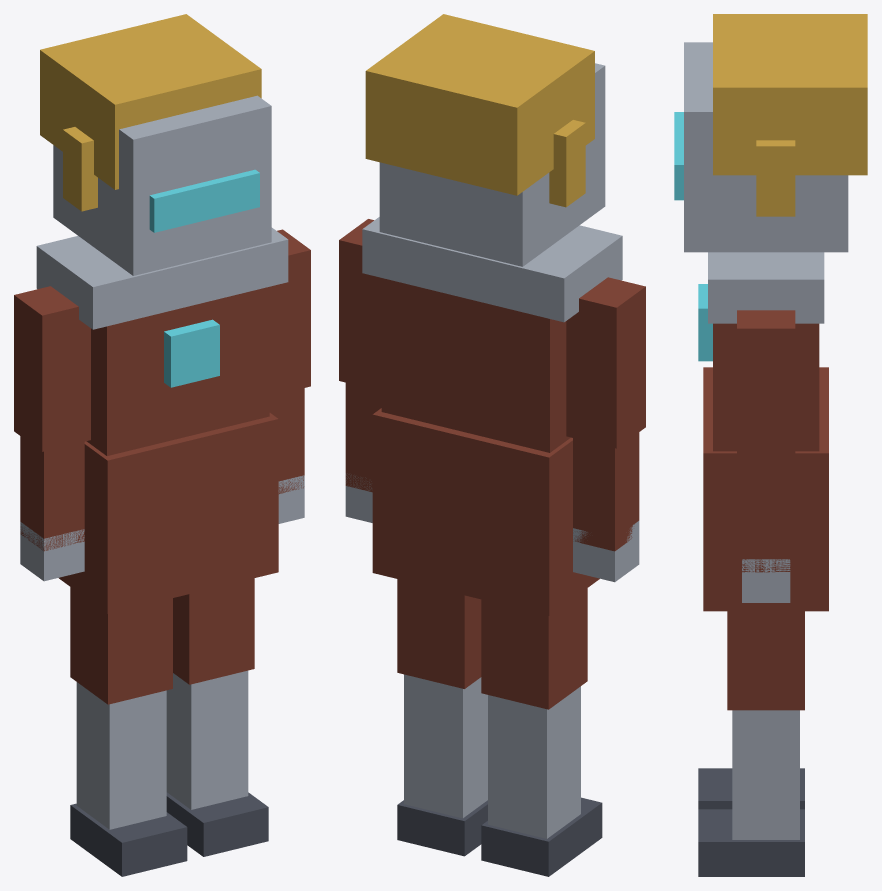
File: MechanicalCompanion.obj
The picture shows the model from 3 angles, left to right: view 1: azimuth 30°, elevation 25°; view 2: azimuth 150°, elevation 25°; view 3: azimuth 270°, elevation 25°; orthographic projection. The views are drawn at different scales.
Parts seen in each view (by area): view 1: torso, head, leg_l, leg_r, arm_l, arm_r; view 2: torso, head, leg_l, leg_r, arm_l, arm_r; view 3: head, torso, leg_r, arm_r, leg_l.
Part boxes in pixels (left/top/right/bottom): torso: left=36, top=227, right=288, bottom=613; head: left=40, top=14, right=271, bottom=275; leg_l: left=70, top=587, right=187, bottom=876; leg_r: left=166, top=578, right=268, bottom=856; arm_l: left=14, top=286, right=90, bottom=581; arm_r: left=269, top=229, right=310, bottom=523; torso: left=362, top=217, right=622, bottom=615; head: left=365, top=14, right=605, bottom=266; leg_l: left=481, top=588, right=602, bottom=876; leg_r: left=397, top=579, right=487, bottom=856; arm_l: left=566, top=277, right=645, bottom=582; arm_r: left=339, top=219, right=381, bottom=522; head: left=674, top=14, right=867, bottom=252; torso: left=698, top=252, right=828, bottom=611; leg_r: left=698, top=611, right=804, bottom=876; arm_r: left=737, top=310, right=795, bottom=602; leg_l: left=698, top=768, right=804, bottom=809.
Bounding box in the file's own units: 0.66 × 1.8 × 0.4.
